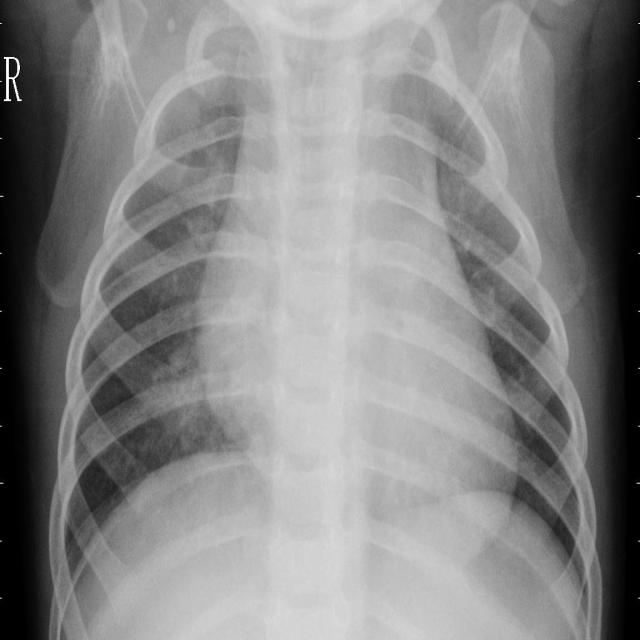low-pneumonia: (437, 132, 520, 317), (134, 333, 212, 455), (166, 126, 232, 264), (183, 19, 258, 129)
